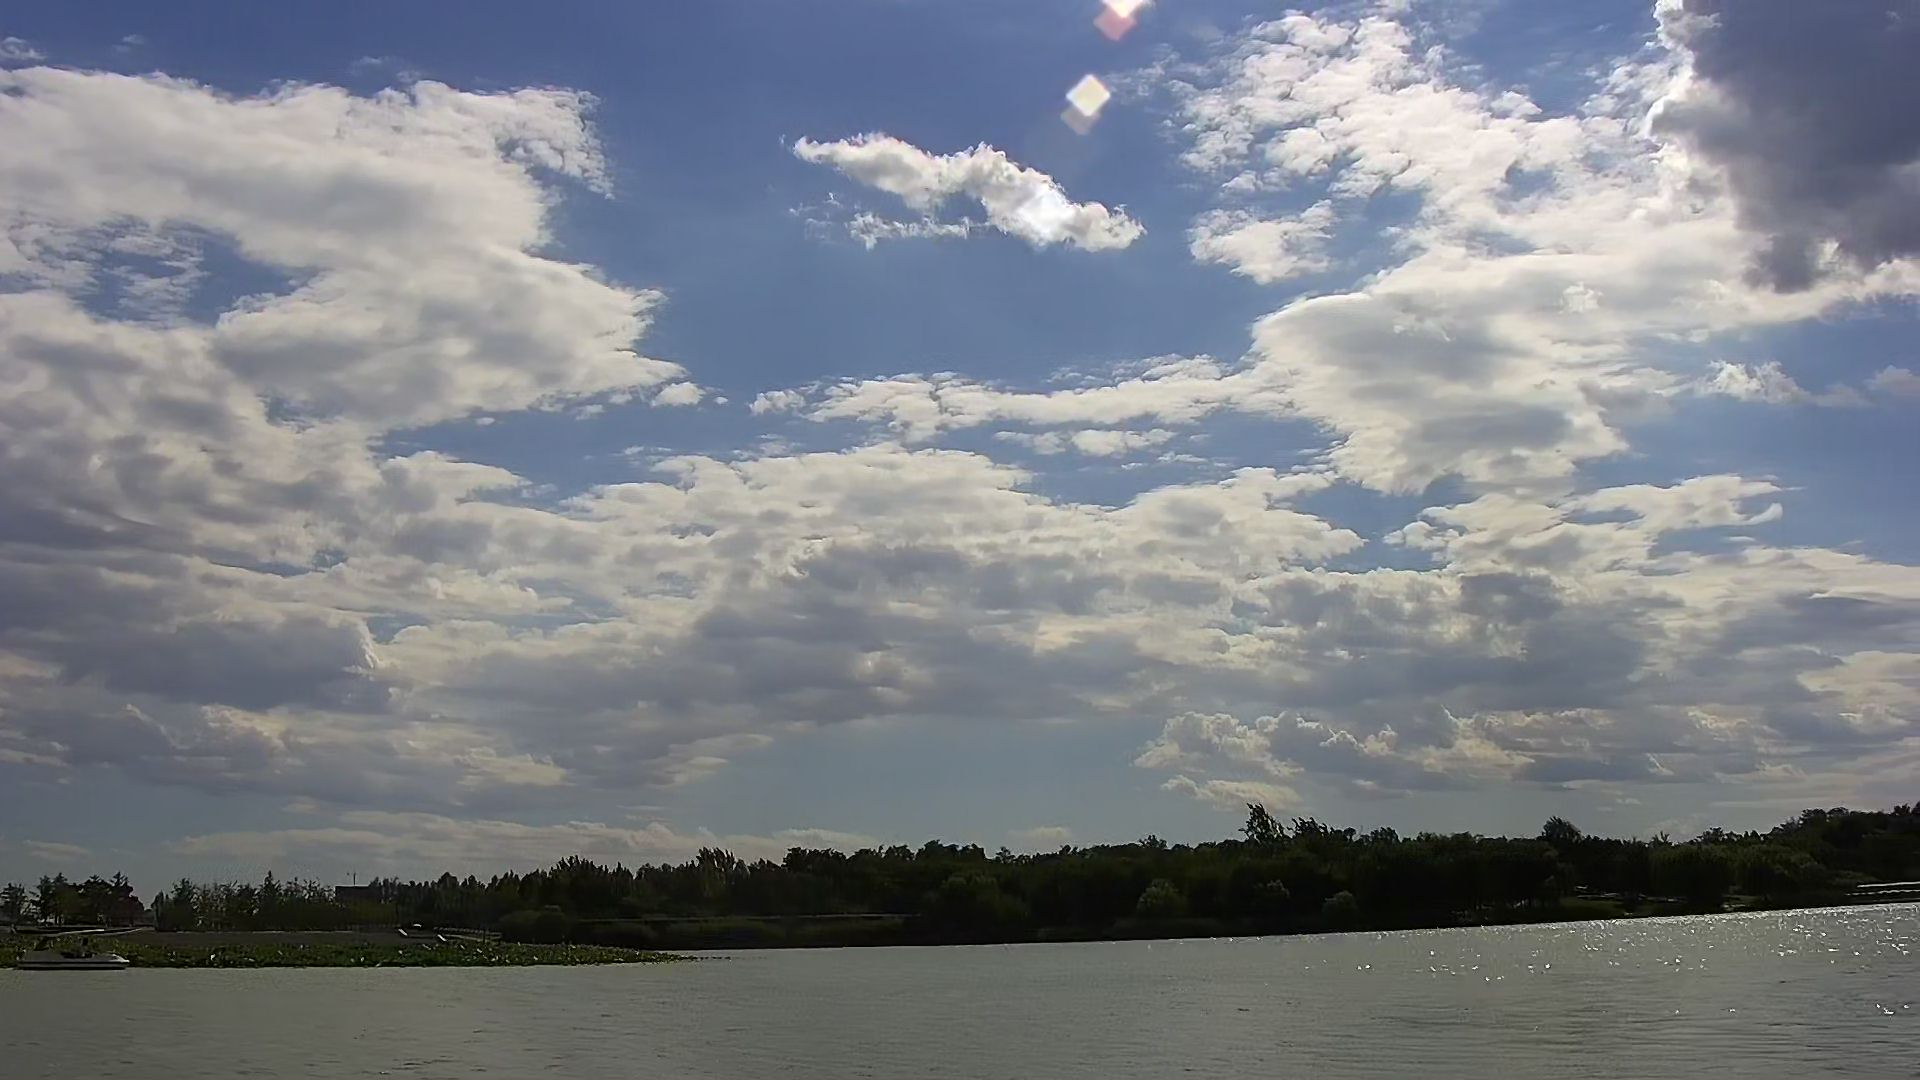boat: (15, 928, 136, 971)
